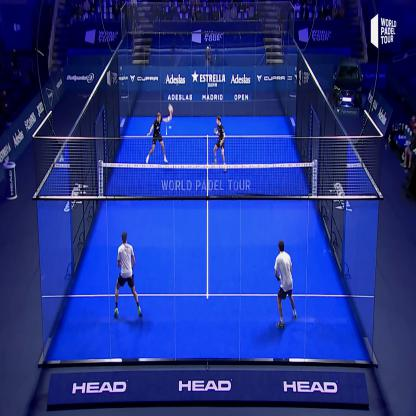ball: (166, 121, 175, 137)
